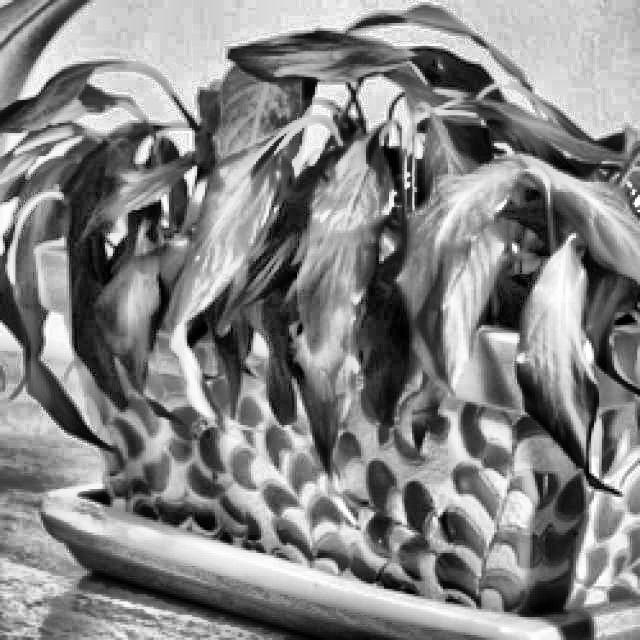plants: (0, 35, 638, 538)
